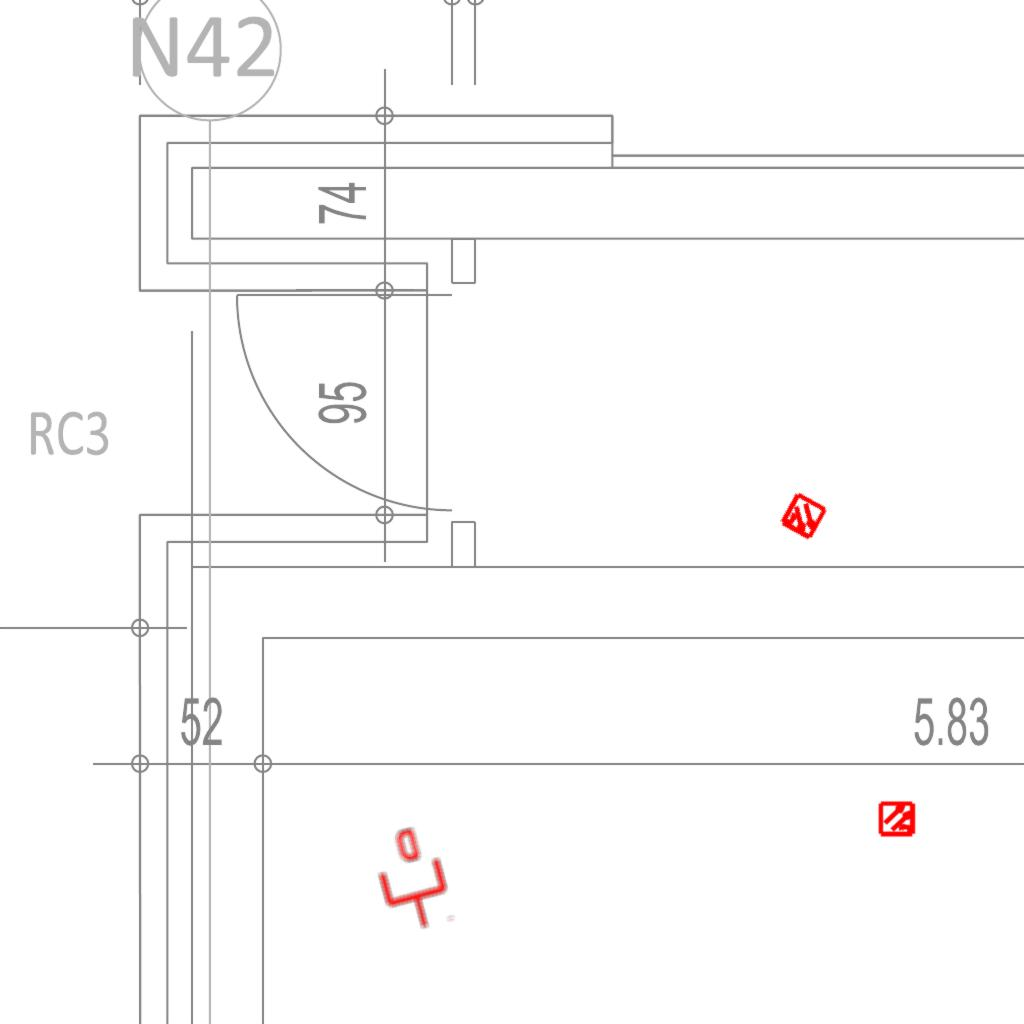Datenanschluss_einfach: (366, 822, 459, 938)
OT_Multisensormelder_(Kombination_RMO_WMD): (764, 478, 842, 556), (870, 791, 926, 847)
